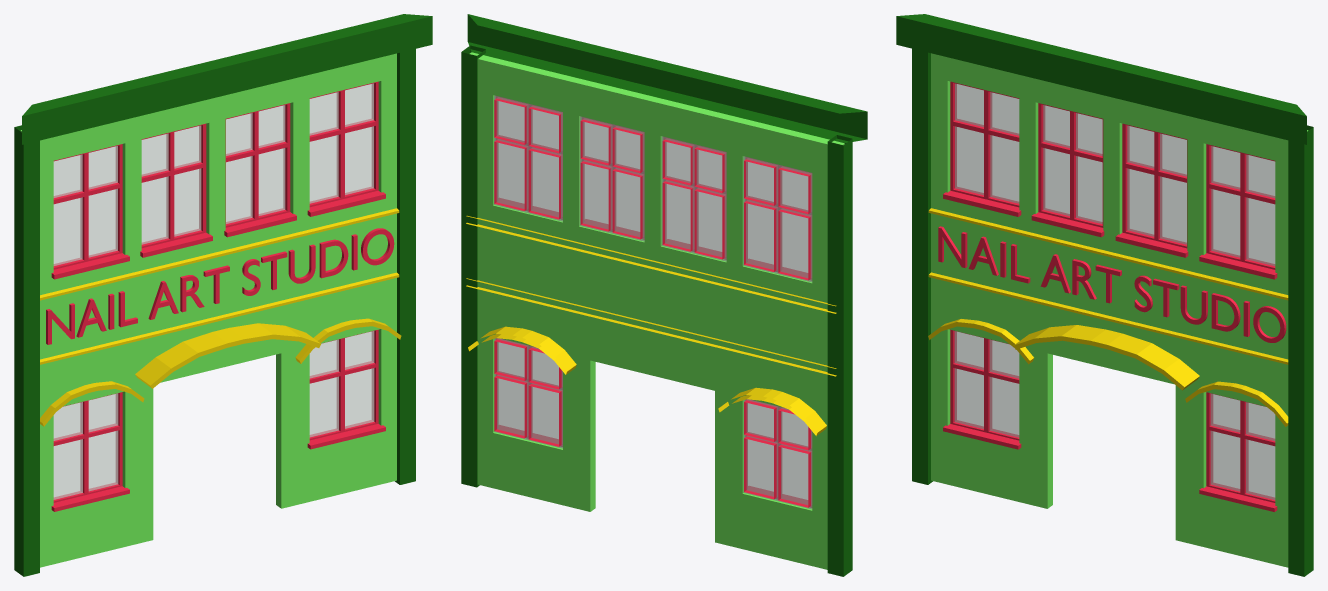
Rendered from 6 kapı.obj.
3 views of the same model, side by side, from view 1: azimuth 30°, elevation 25°; view 2: azimuth 150°, elevation 25°; view 3: azimuth 330°, elevation 25° (orthographic). The views are drawn at different scales.
Parts seen in each view (by area): view 1: Text.012_Material.001, Text.012_#56B547, Text.012_window_glass, Text.012_pinkkkk, Text.012_yellow; view 2: Text.012_Material.001, Text.012_window_glass, Text.012_#56B547, Text.012_pinkkkk, Text.012_yellow; view 3: Text.012_Material.001, Text.012_#56B547, Text.012_window_glass, Text.012_pinkkkk, Text.012_yellow.
Part boxes in pixels (bbox=[...]): Text.012_Material.001: bbox=[20, 53, 396, 567]; Text.012_#56B547: bbox=[14, 14, 432, 576]; Text.012_window_glass: bbox=[53, 83, 374, 499]; Text.012_pinkkkk: bbox=[46, 81, 394, 511]; Text.012_yellow: bbox=[40, 208, 401, 426]; Text.012_Material.001: bbox=[469, 52, 844, 569]; Text.012_window_glass: bbox=[494, 95, 812, 509]; Text.012_#56B547: bbox=[461, 14, 867, 576]; Text.012_pinkkkk: bbox=[494, 96, 811, 507]; Text.012_yellow: bbox=[466, 215, 836, 435]; Text.012_Material.001: bbox=[931, 53, 1308, 567]; Text.012_#56B547: bbox=[896, 14, 1313, 576]; Text.012_window_glass: bbox=[954, 83, 1275, 499]; Text.012_pinkkkk: bbox=[938, 81, 1286, 511]; Text.012_yellow: bbox=[928, 208, 1288, 426].
Size of the model in its own units: 124 by 135 by 16.14.
